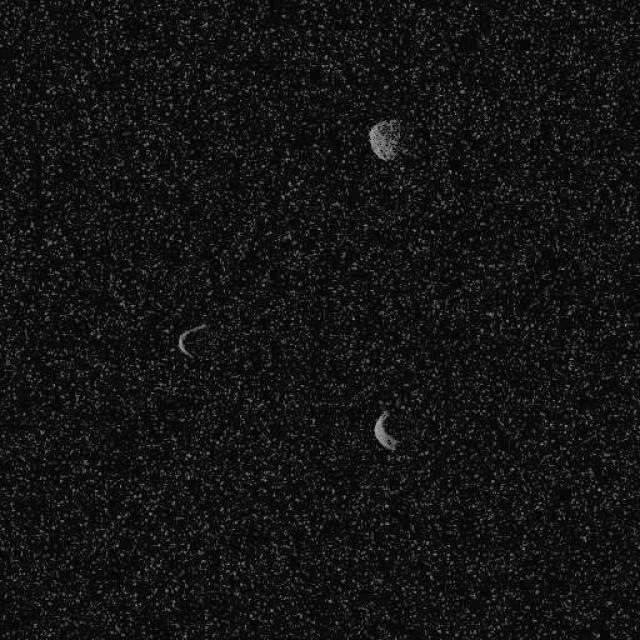D2: (366, 116, 404, 162), (371, 409, 401, 451), (176, 321, 208, 359)
